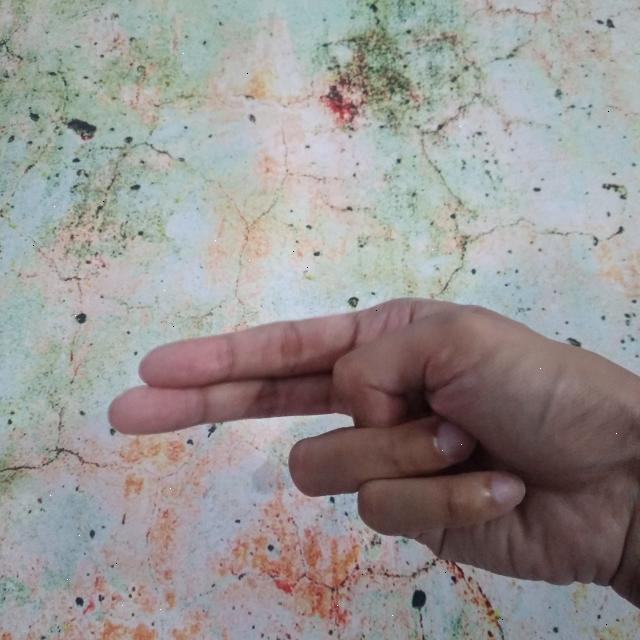H: (104, 285, 640, 615)
